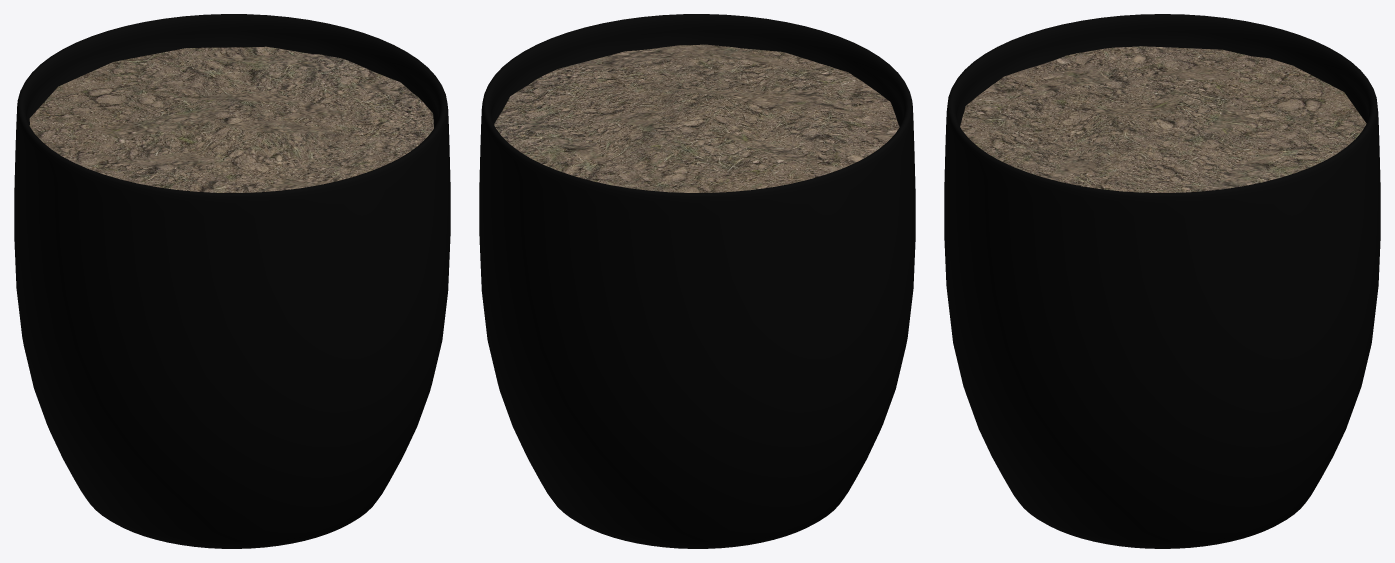
File: SY-黑色花盆.fbx
The picture shows the model from 3 angles, left to right: view 1: azimuth 30°, elevation 25°; view 2: azimuth 150°, elevation 25°; view 3: azimuth 270°, elevation 25°; orthographic projection.
Parts seen in each view (by area): view 1: SY-黑色花盆; view 2: SY-黑色花盆; view 3: SY-黑色花盆.
Boxes of the visible parts, x1,y1,x2,y2 form: SY-黑色花盆: [14, 14, 450, 548]; SY-黑色花盆: [479, 14, 915, 548]; SY-黑色花盆: [944, 14, 1380, 548].
Size of the model in its own units: 0.106 by 0.106 by 0.1035.
